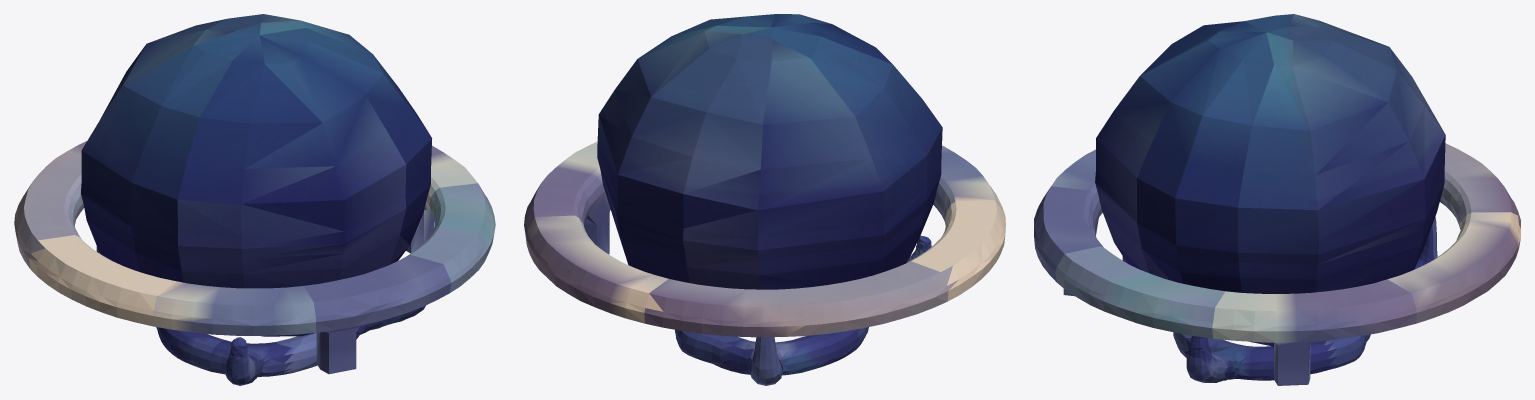
The model's file is sphere-package-with-cradle.glb.
The picture shows the model from 3 angles, left to right: view 1: azimuth 30°, elevation 25°; view 2: azimuth 150°, elevation 25°; view 3: azimuth 270°, elevation 25°; orthographic projection.
Visible parts, largest first — view 1: tripo_node_dd3c0e54-b940-4a0e-a97b-38f0f507f7b3; view 2: tripo_node_dd3c0e54-b940-4a0e-a97b-38f0f507f7b3; view 3: tripo_node_dd3c0e54-b940-4a0e-a97b-38f0f507f7b3.
Part boxes in pixels (left/top/right/bottom): tripo_node_dd3c0e54-b940-4a0e-a97b-38f0f507f7b3: left=14, top=14, right=495, bottom=385; tripo_node_dd3c0e54-b940-4a0e-a97b-38f0f507f7b3: left=524, top=14, right=1005, bottom=385; tripo_node_dd3c0e54-b940-4a0e-a97b-38f0f507f7b3: left=1034, top=14, right=1520, bottom=385.
Size of the model in its own units: 0.998 by 0.6934 by 0.998.
Materials: 1 (1 with a texture image).
